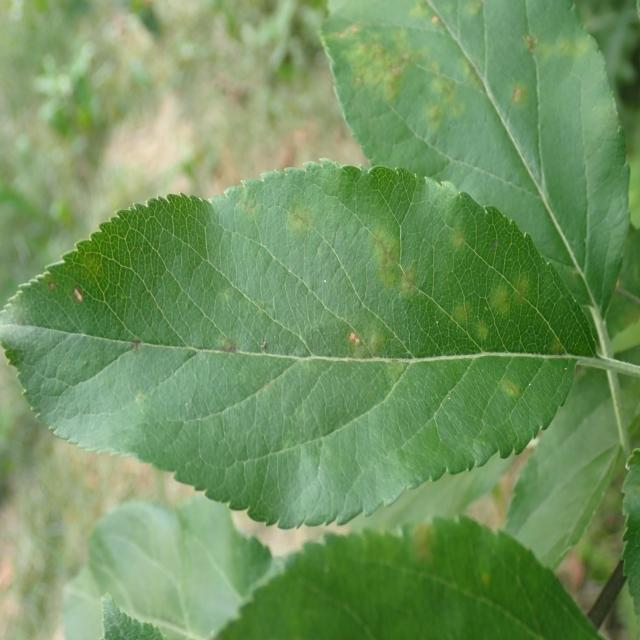scab: (80, 173, 583, 495), (298, 0, 634, 168)
